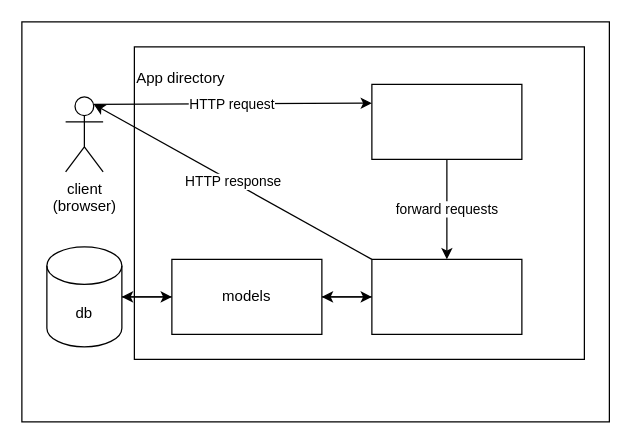
Some shapes in this 631 by 444 pixel diagram are drawn without their labels. The centre of each missing label's shape, as x and y in pixels:
controllers: the point at 446,296
routes: the point at 446,121
